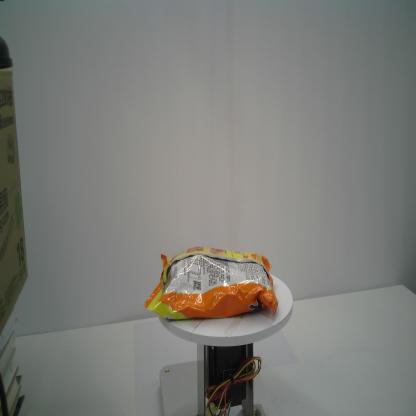Instant Noodles: (143, 245, 280, 326)
